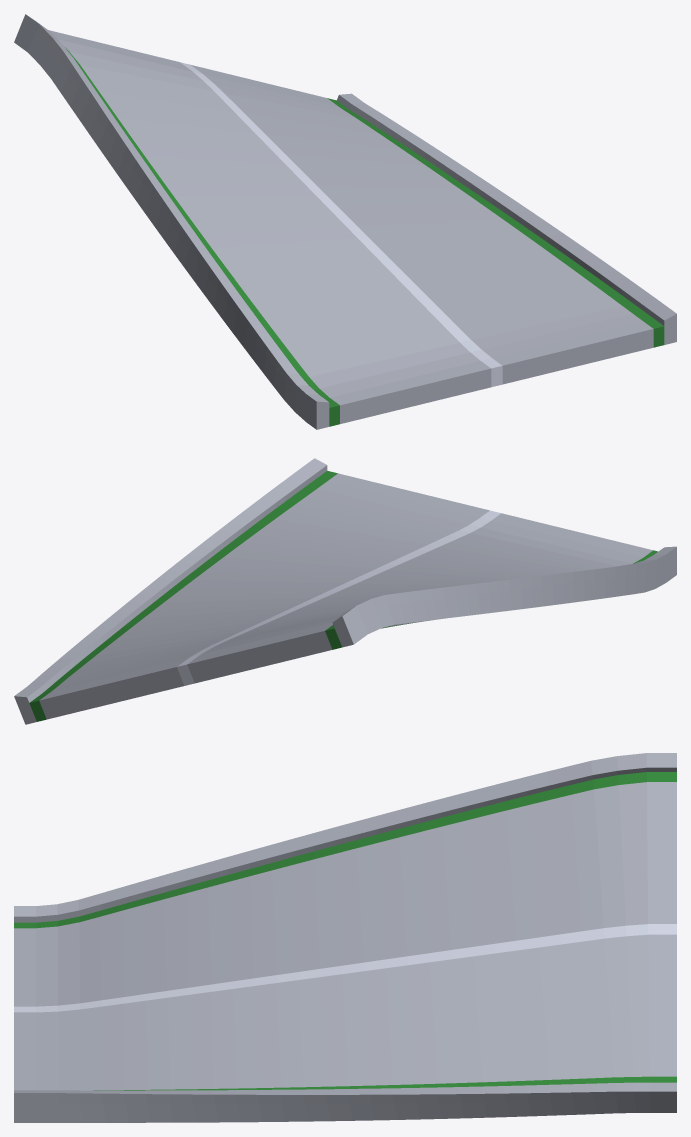
File: tilt_road_right.glb
3 renders of one model, top to bottom at view 1: azimuth 30°, elevation 25°; view 2: azimuth 150°, elevation 25°; view 3: azimuth 270°, elevation 25°, orthographic. The views are drawn at different scales.
Parts seen in each view (by area): view 1: tilt_road_right; view 2: tilt_road_right; view 3: tilt_road_right.
Part boxes in pixels (left/top/right/bottom): tilt_road_right: left=14, top=14, right=676, bottom=429; tilt_road_right: left=14, top=458, right=676, bottom=724; tilt_road_right: left=14, top=753, right=676, bottom=1122.
Size of the model in its own units: 20.06 by 9.81 by 30.
